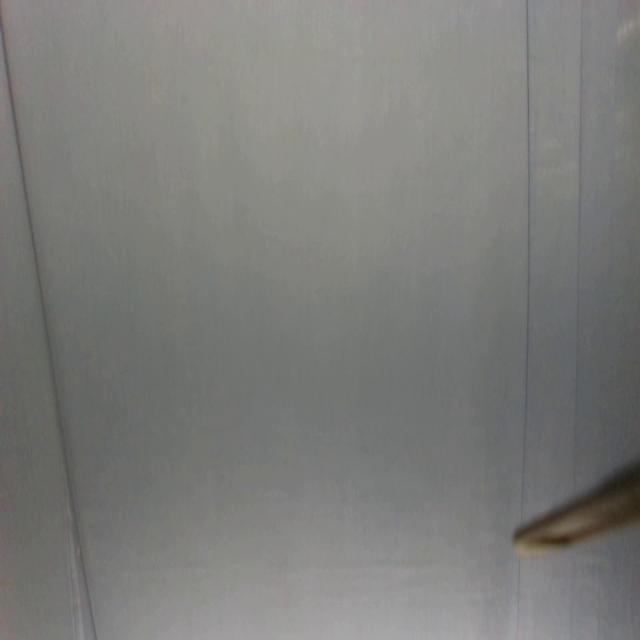crease: (0, 9, 99, 639), (570, 0, 583, 488), (520, 0, 532, 515), (514, 558, 524, 640)
